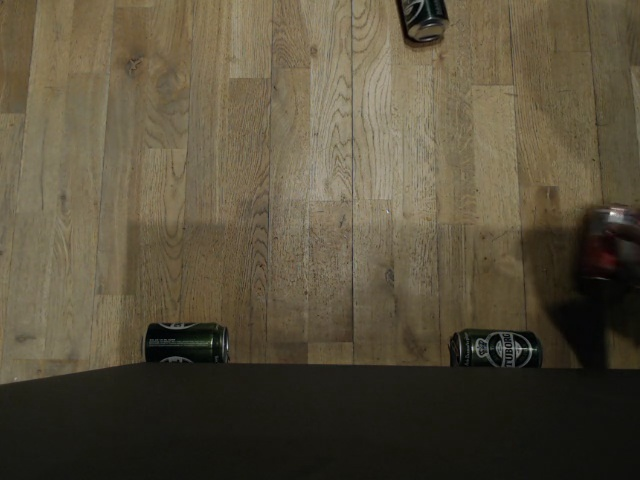beer: (445, 323, 547, 373), (142, 318, 234, 368), (392, 0, 455, 47)
cola: (582, 201, 636, 292)
